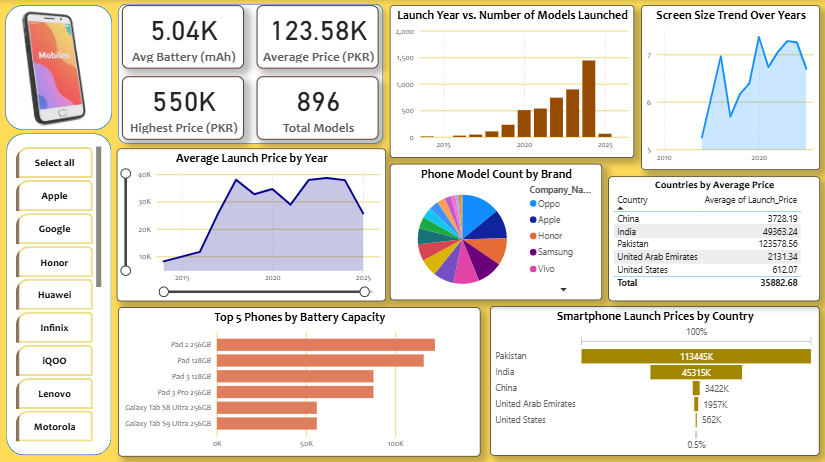

The dashboard page shown, as its layout file describes it:
{"tool":"powerbi","page":{"name":"Page 1","canvas":[1280,720],"ordinal":0},"visuals":[{"type":"shape","box":[8.8,8.8,165.7,193.4],"z":0},{"type":"shape","box":[8.9,207.1,162.5,498.2],"z":1000},{"type":"advancedSlicerVisual","fields":{"Values":["Mobiles Data.Company_Name"]},"box":[20,222.5,142.5,467.5],"z":2000},{"type":"shape","box":[181.9,6.3,410.2,216.5],"z":3000},{"type":"image","box":[0,8.8,167.6,194.1],"z":4000},{"type":"card","fields":{"Values":["Mobiles Data.Avg Battery (mAh)"]},"box":[188.2,8.7,188.7,98.2],"z":5000,"group":"g1"},{"type":"group","id":"g1","title":"Group 1","box":[188.2,8.7,398.4,208.7],"z":5000},{"type":"card","fields":{"Values":["Mobiles Data.Average Price (PKR)"]},"box":[396.9,8.7,188.7,98.2],"z":6000,"group":"g1"},{"type":"funnel","title":"Smartphone Launch Prices by Country","fields":{"Category":["Mobiles Data.Country"],"Y":["Sum(Mobiles Data.Launch_Price)"]},"box":[759.1,474.5,509.5,231.4],"z":6000},{"type":"card","fields":{"Values":["Mobiles Data.Total Models"]},"box":[396.9,119.2,188.7,98.2],"z":7000,"group":"g1"},{"type":"lineChart","title":"Average Launch Price by Year","fields":{"Category":["Mobiles Data.Launched_Year"],"Y":["Avg(Mobiles Data.Launch_Price)"]},"box":[181.1,229.1,416.5,236.2],"z":7000},{"type":"clusteredColumnChart","title":"Launch Year vs. Number of Models Launched","fields":{"Category":["Mobiles Data.Launched_Year"],"Y":["CountNonNull(Mobiles Data.Model_Name)"]},"box":[603.9,8.7,378,236.2],"z":8000},{"type":"card","fields":{"Values":["Mobiles Data.Highest Price (PKR)"]},"box":[188.2,119.2,188.7,98.2],"z":8000,"group":"g1"},{"type":"pieChart","title":"Phone Model Count by Brand","fields":{"Category":["Mobiles Data.Company_Name"],"Y":["CountNonNull(Mobiles Data.Model_Name)"]},"box":[603.9,254.3,328.3,211],"z":9000},{"type":"barChart","title":"Top 5 Phones by Battery Capacity","fields":{"Y":["Sum(Mobiles Data.Battery_CapacitymAh)"],"Category":["Mobiles Data.Model_Name"]},"box":[181.9,474.8,560.6,230.7],"z":10000},{"type":"lineChart","title":"Screen Size Trend Over Years","fields":{"Category":["Mobiles Data.Launched_Year"],"Y":["Avg(Mobiles Data.Screen_Size(inch))"]},"box":[991.8,8.2,276.5,255.3],"z":11000},{"type":"tableEx","title":"Countries by Average Price","fields":{"Values":["Mobiles Data.Country","Avg(Mobiles Data.Launch_Price)"]},"box":[940.9,273,327.7,192.7],"z":12000}]}

Visuals, with their boxes in screenshot pixels (x1, y1, x2, y2), scaled from the page's 1280x720 canvas onto the 825x462 screenshot:
shape: locate(6, 6, 112, 130)
shape: locate(6, 133, 110, 453)
advancedSlicerVisual - Mobiles Data.Company_Name: locate(13, 143, 105, 443)
shape: locate(117, 4, 382, 143)
image: locate(0, 6, 108, 130)
card - Mobiles Data.Avg Battery (mAh): locate(121, 6, 243, 69)
"Group 1" group: locate(121, 6, 378, 139)
card - Mobiles Data.Average Price (PKR): locate(256, 6, 377, 69)
"Smartphone Launch Prices by Country" funnel: locate(489, 304, 818, 453)
card - Mobiles Data.Total Models: locate(256, 76, 377, 139)
"Average Launch Price by Year" lineChart: locate(117, 147, 385, 299)
"Launch Year vs. Number of Models Launched" clusteredColumnChart: locate(389, 6, 633, 157)
card - Mobiles Data.Highest Price (PKR): locate(121, 76, 243, 139)
"Phone Model Count by Brand" pieChart: locate(389, 163, 601, 299)
"Top 5 Phones by Battery Capacity" barChart: locate(117, 305, 479, 453)
"Screen Size Trend Over Years" lineChart: locate(639, 5, 817, 169)
"Countries by Average Price" tableEx: locate(606, 175, 818, 299)
